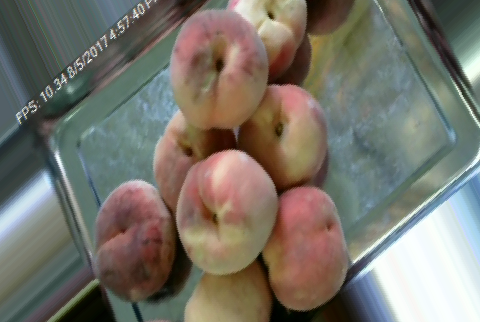Peach: (176, 150, 274, 274), (171, 8, 266, 129), (260, 187, 347, 309), (93, 178, 176, 302), (236, 80, 327, 189), (223, 0, 307, 76)
